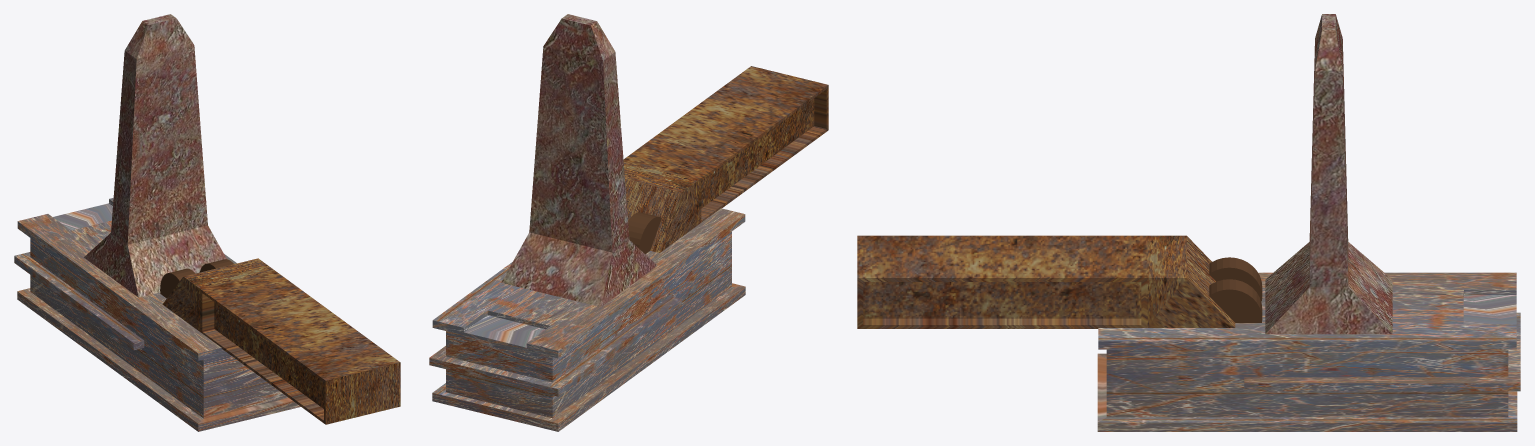
The model's file is Body.obj.
The picture shows the model from 3 angles, left to right: view 1: azimuth 30°, elevation 25°; view 2: azimuth 150°, elevation 25°; view 3: azimuth 270°, elevation 25°; orthographic projection. The views are drawn at different scales.
Parts seen in each view (by area): view 1: Cuerpo; view 2: Cuerpo; view 3: Cuerpo.
Part boxes in pixels (<box>): Cuerpo: <box>14,14,400,431</box>; Cuerpo: <box>429,14,828,431</box>; Cuerpo: <box>857,14,1520,431</box>.
Size of the model in its own units: 2.91 by 7.24 by 11.59.
